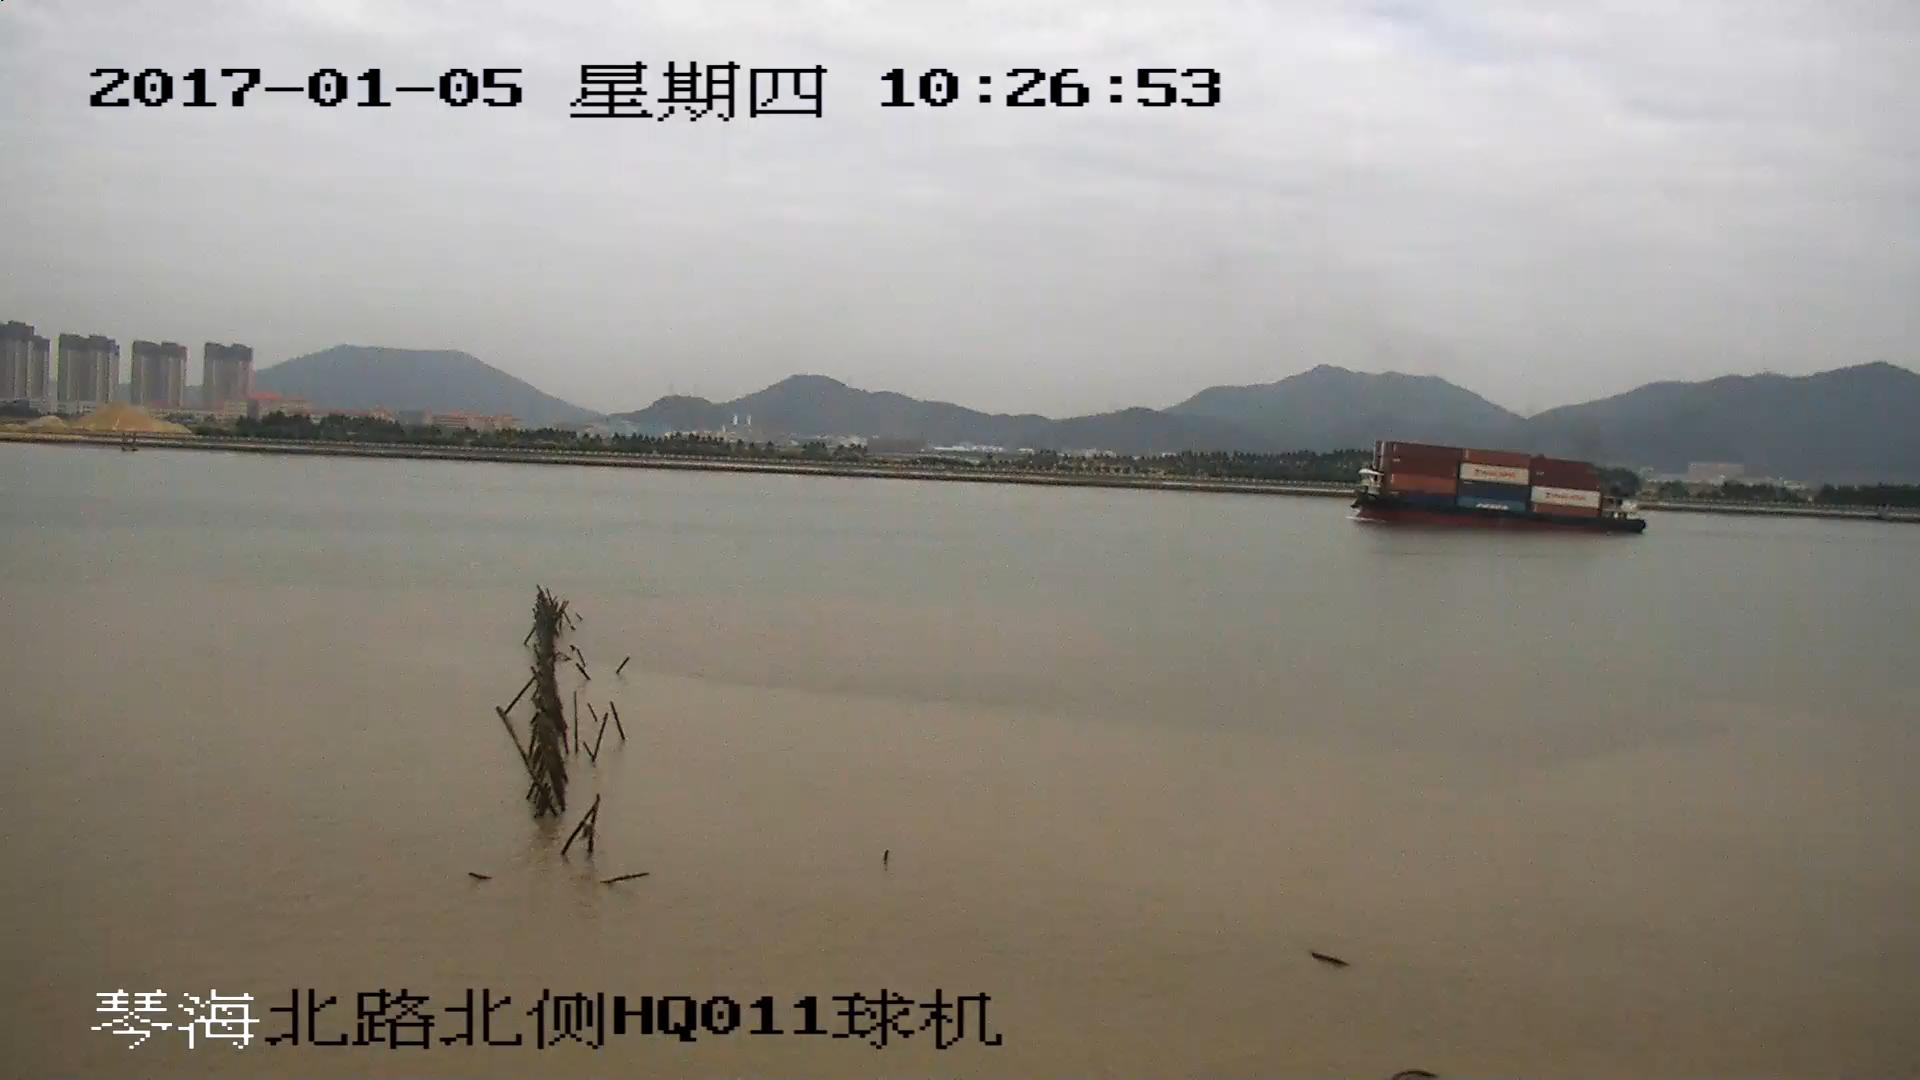container ship: (1349, 442, 1646, 536)
